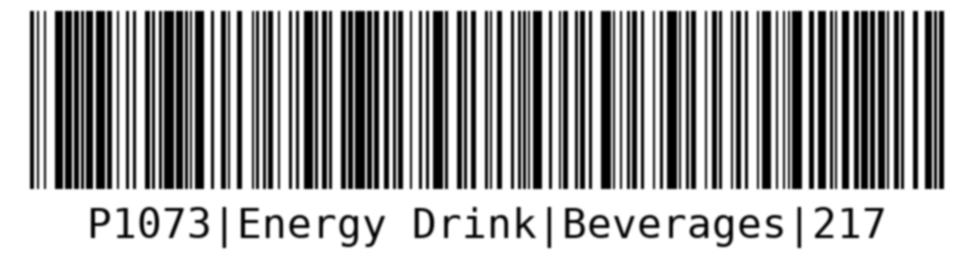milk: (17, 7, 955, 264)
